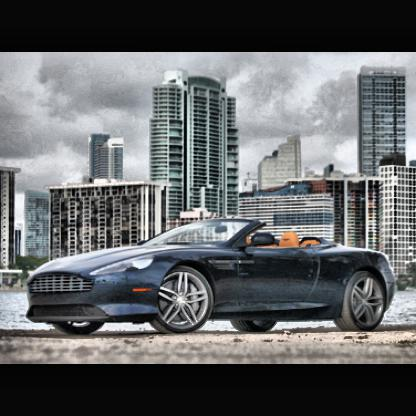Aston Martin V8 Vantage Convertible 2012: (30, 220, 399, 336)
